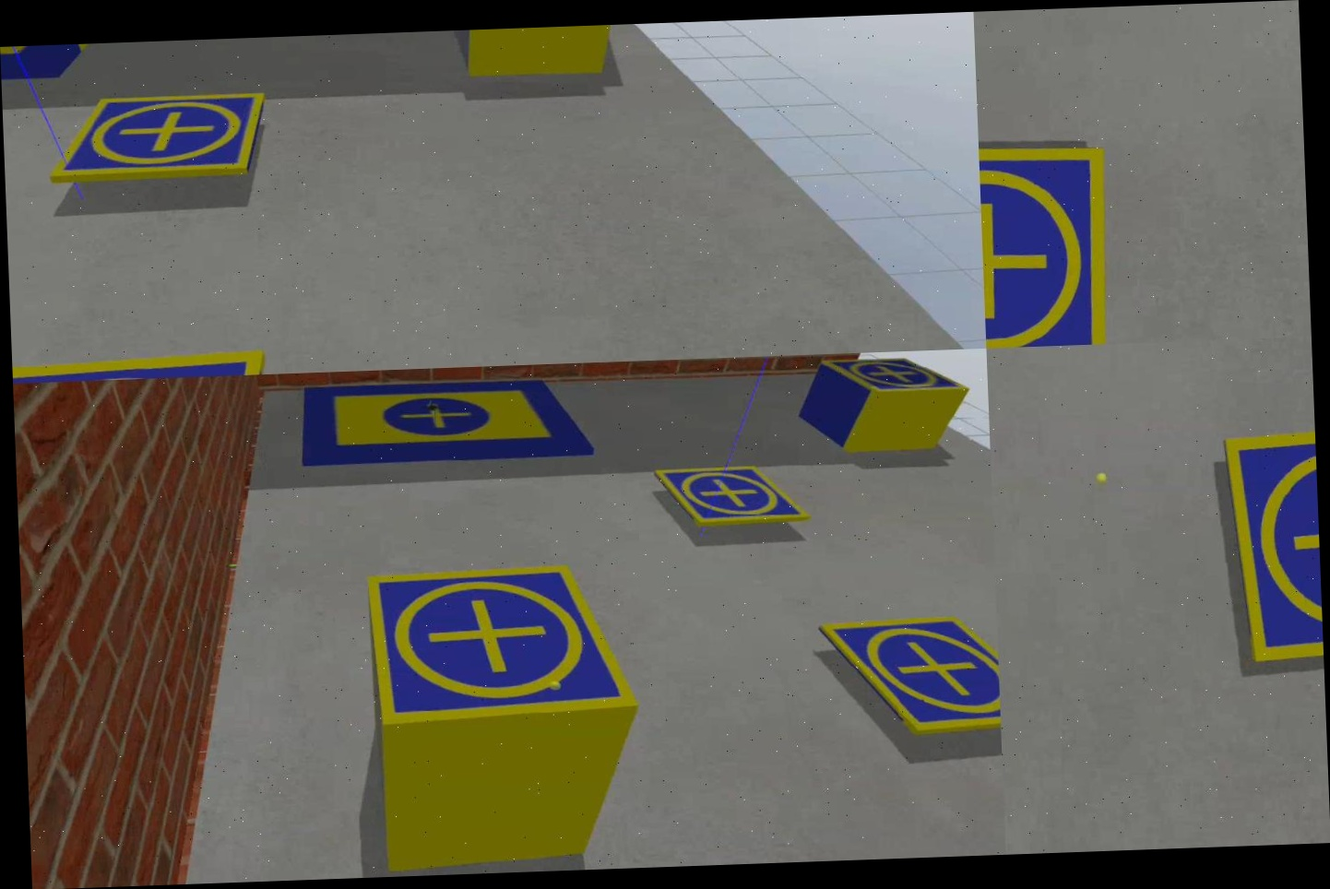large_base: (298, 366, 606, 478), (0, 42, 137, 87)
small_base: (358, 553, 647, 739), (1208, 417, 1324, 678), (979, 136, 1118, 349), (812, 609, 1002, 744), (49, 75, 268, 188), (654, 458, 810, 535), (816, 349, 972, 405)
